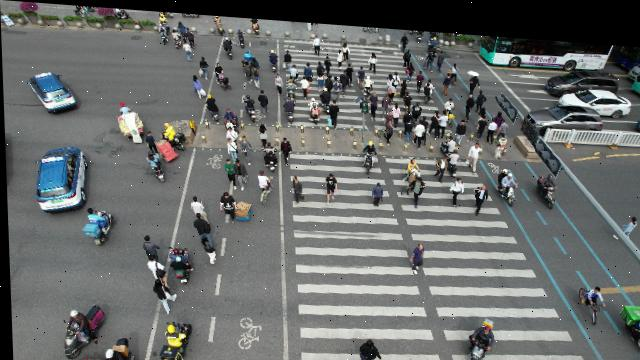non-motor-vehicle: (61, 301, 107, 348), (464, 306, 500, 360), (111, 96, 144, 144), (83, 207, 116, 246), (162, 318, 193, 352), (143, 146, 169, 184), (493, 162, 519, 199), (159, 120, 186, 148), (103, 336, 134, 360), (259, 138, 279, 169), (400, 147, 422, 174), (201, 92, 220, 123), (539, 170, 556, 201), (240, 90, 257, 121), (221, 103, 241, 128), (445, 142, 461, 172), (156, 343, 184, 360), (362, 138, 376, 171), (281, 92, 298, 119), (173, 260, 192, 283), (437, 129, 458, 149), (167, 244, 189, 262), (267, 42, 281, 70), (307, 93, 320, 123), (319, 82, 332, 110), (238, 45, 256, 65), (443, 91, 455, 121), (157, 11, 172, 30), (222, 34, 234, 56), (286, 75, 298, 97), (158, 21, 169, 44), (170, 26, 182, 47), (448, 56, 460, 77), (177, 18, 188, 39), (403, 83, 413, 106), (363, 70, 374, 89), (424, 77, 434, 97), (287, 60, 298, 78), (236, 24, 245, 46), (413, 93, 422, 115), (362, 136, 375, 150), (428, 35, 441, 48), (249, 15, 259, 31), (216, 17, 225, 31), (213, 12, 223, 21)
person: (218, 188, 257, 221), (147, 276, 180, 312), (406, 232, 433, 272), (353, 329, 384, 360), (286, 165, 307, 201), (471, 173, 490, 212), (213, 58, 234, 90), (321, 165, 338, 204), (277, 132, 296, 165), (325, 93, 345, 124), (578, 277, 605, 299), (231, 155, 248, 189), (467, 132, 483, 168), (220, 155, 237, 188), (239, 132, 255, 162), (140, 235, 160, 257), (450, 171, 465, 198), (144, 256, 163, 277), (250, 60, 264, 88), (189, 213, 209, 232), (254, 167, 272, 188), (187, 194, 204, 216), (225, 134, 239, 160), (495, 126, 508, 154), (369, 86, 380, 117), (369, 178, 383, 201), (186, 25, 200, 47), (390, 96, 401, 124), (464, 85, 474, 115), (256, 119, 269, 141), (476, 108, 487, 134), (242, 55, 253, 80), (332, 70, 342, 97), (435, 148, 445, 175), (322, 49, 334, 71), (457, 111, 466, 140), (425, 42, 435, 68), (190, 73, 202, 94), (301, 70, 311, 95), (384, 115, 394, 140), (440, 102, 448, 133), (304, 57, 313, 83), (404, 112, 412, 141), (487, 109, 495, 138), (436, 42, 446, 65), (340, 64, 348, 92), (431, 101, 438, 133), (257, 87, 268, 107), (184, 38, 194, 60), (415, 115, 423, 142), (443, 65, 452, 89), (387, 75, 397, 96), (312, 32, 323, 51), (500, 111, 511, 130), (381, 88, 390, 111), (400, 44, 412, 61), (421, 109, 428, 138), (200, 58, 211, 76), (367, 48, 377, 67), (144, 129, 155, 146), (398, 27, 409, 44), (336, 42, 344, 65), (225, 126, 238, 140), (324, 70, 334, 88), (347, 57, 354, 82), (383, 104, 396, 117), (358, 60, 365, 84), (400, 73, 408, 94), (283, 43, 291, 64), (467, 70, 478, 85), (495, 101, 504, 119), (403, 103, 414, 116), (468, 62, 479, 73), (418, 173, 427, 186), (343, 38, 351, 52), (478, 86, 489, 96), (478, 100, 487, 112), (275, 70, 283, 82), (629, 207, 637, 218), (394, 65, 399, 81), (387, 66, 392, 75)
